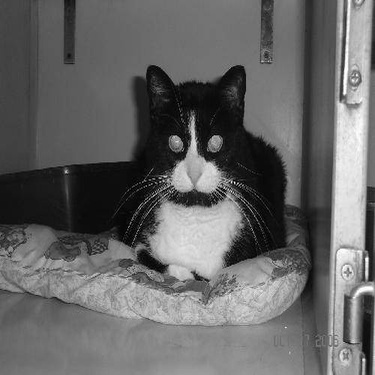cat: (104, 52, 305, 283)
